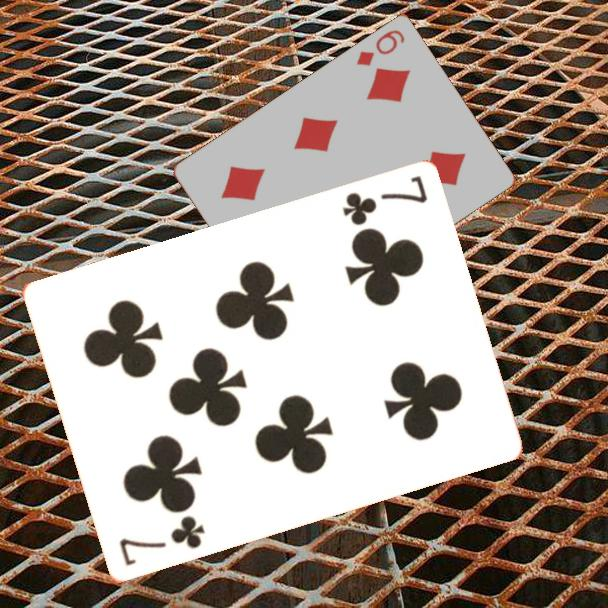c07: (115, 512, 208, 569), (338, 173, 430, 229)
d06: (352, 26, 408, 69)
